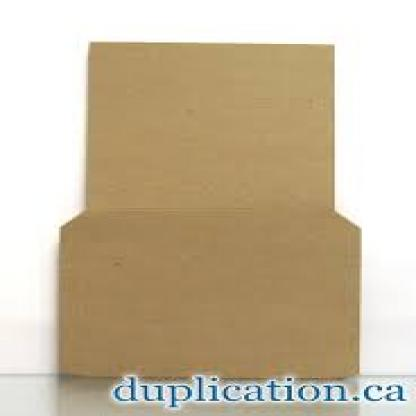Aluminum can: (49, 19, 416, 394)
